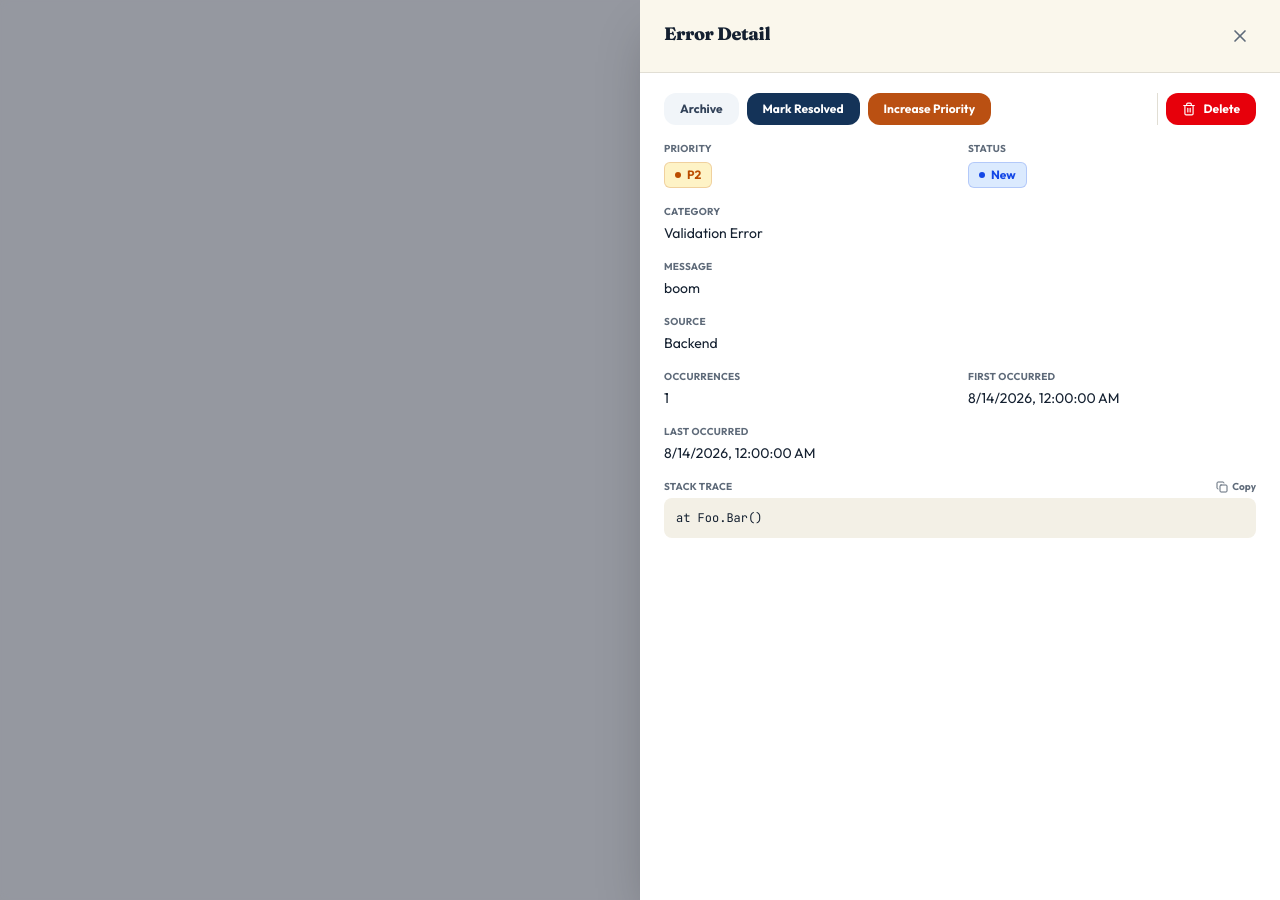
ErrorDetailPanel › cancelling the delete confirmation leaves the record intact
Expected: the text "boom" is shown, [664,279,700,297]
Click the button "Delete".
click(1211, 109)  # box [1166,93,1256,125]
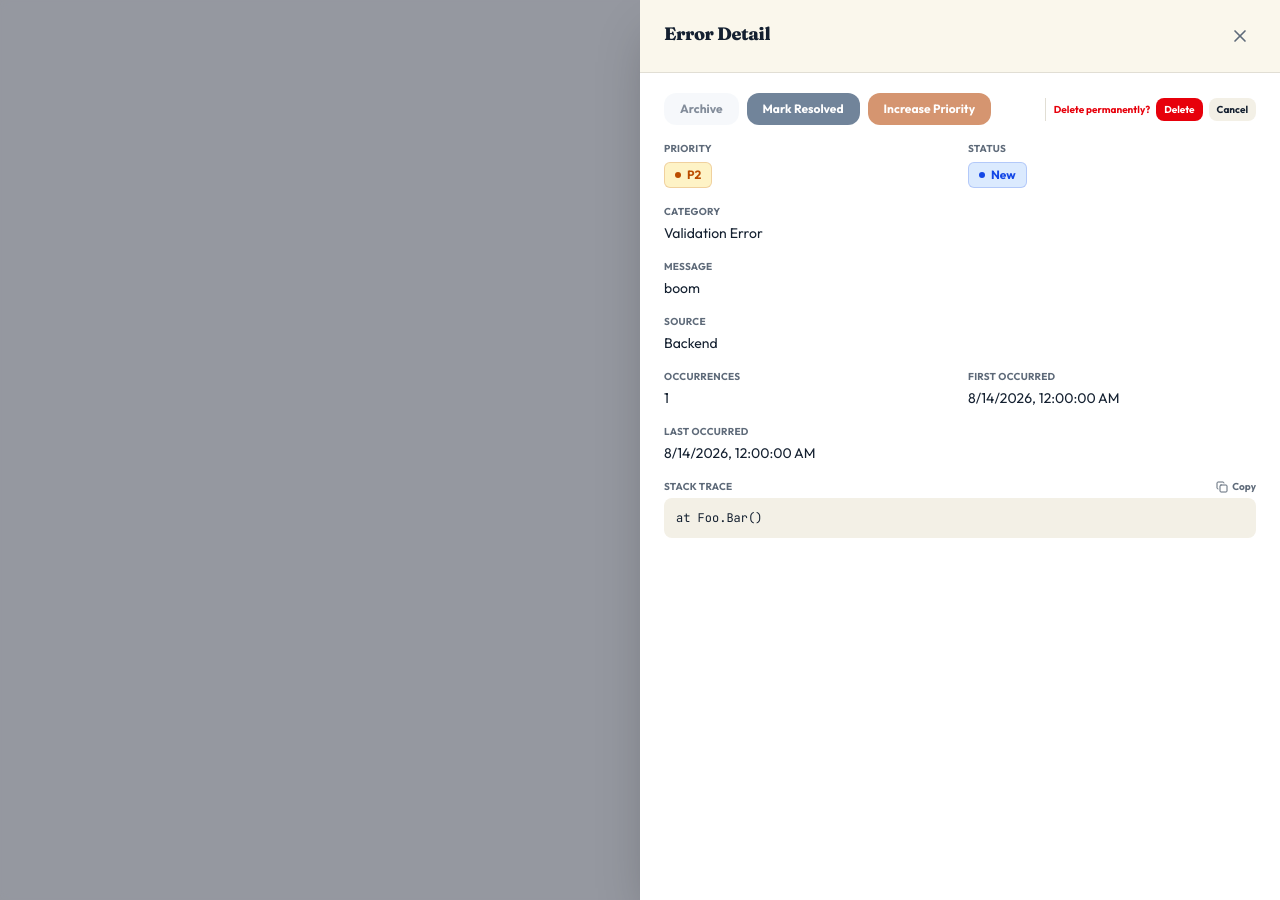
Click the button "Cancel".
click(1232, 109)  # box [1209,98,1256,120]
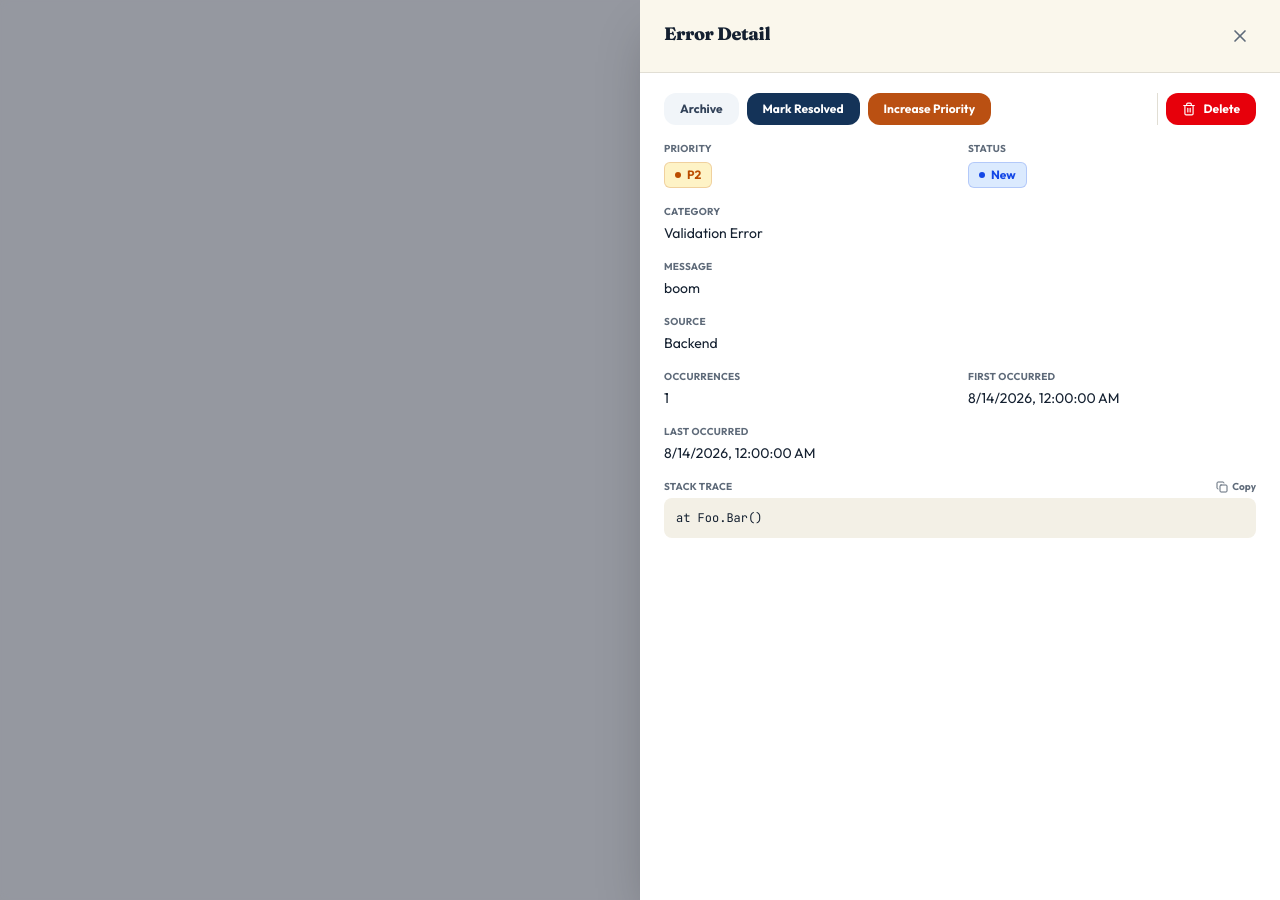
Expected: the text "Delete permanently?" is gone
